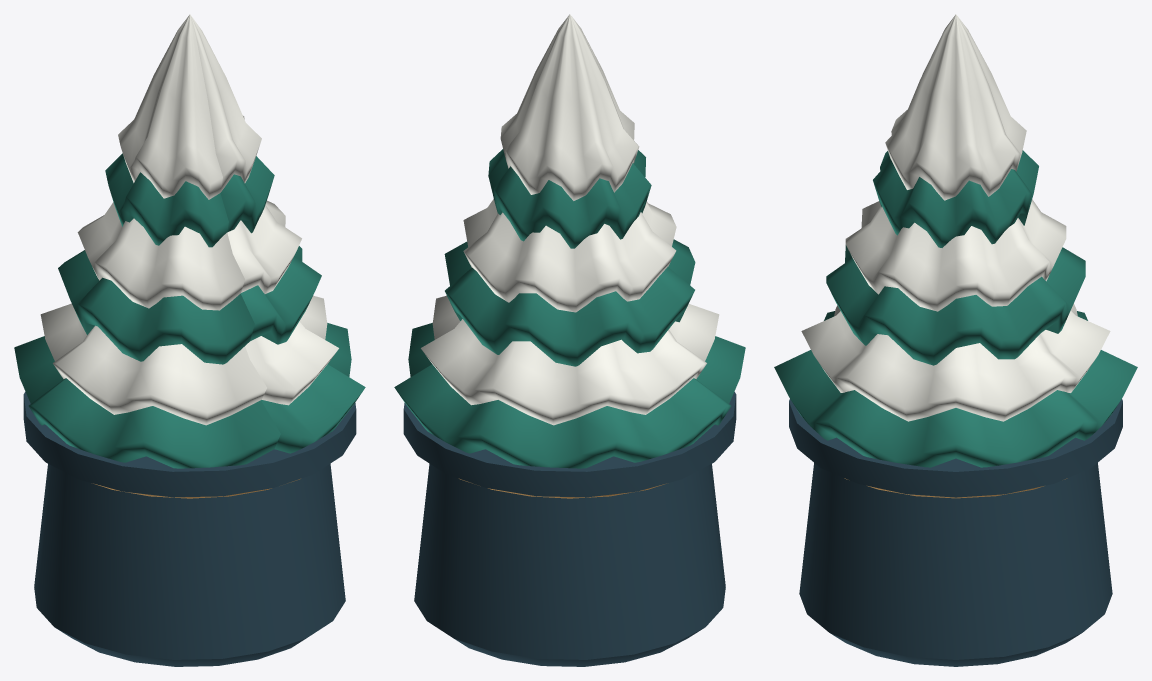
The model's file is storybook-christmas-market-fir-urn-planter-af18ab5d__19690.glb.
The picture shows the model from 3 angles, left to right: view 1: azimuth 30°, elevation 25°; view 2: azimuth 150°, elevation 25°; view 3: azimuth 270°, elevation 25°; orthographic projection.
Parts seen in each view (by area): view 1: fir-urn-planter; view 2: fir-urn-planter; view 3: fir-urn-planter.
Boxes of the visible parts, box(x1,y1,x2,y2) form: fir-urn-planter: box(14, 14, 365, 666); fir-urn-planter: box(394, 14, 745, 666); fir-urn-planter: box(774, 14, 1137, 666).
Size of the model in its own units: 1.04 by 1.89 by 1.04.
